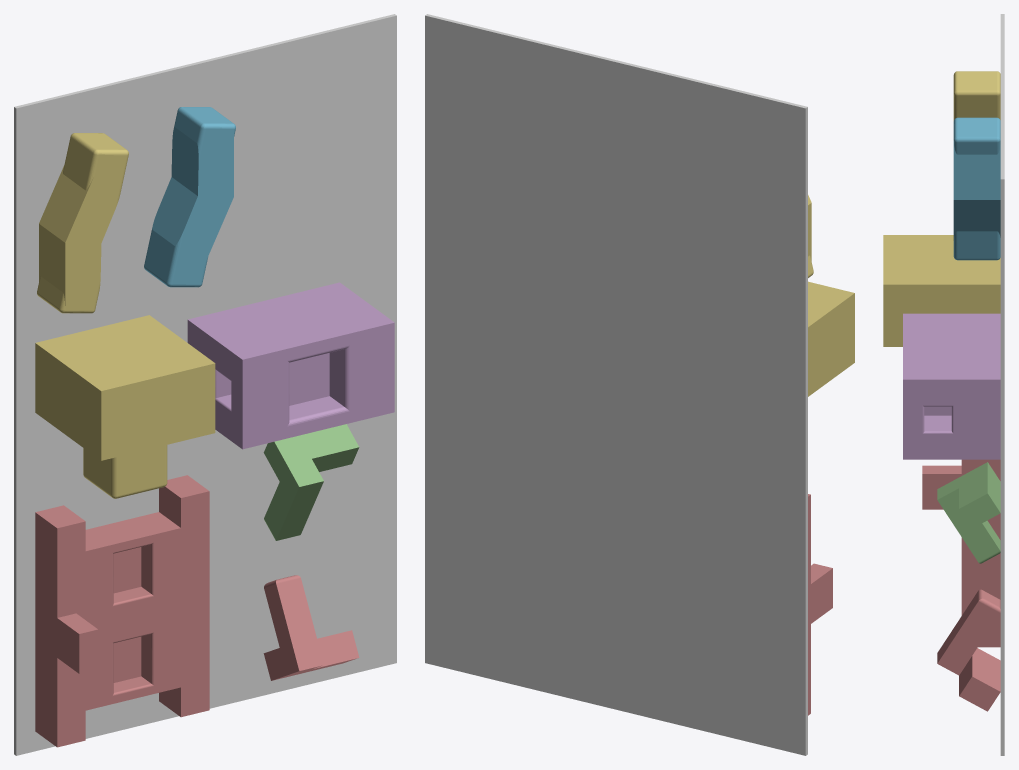
File: pickup_layout.glb
The picture shows the model from 3 angles, left to right: view 1: azimuth 30°, elevation 25°; view 2: azimuth 150°, elevation 25°; view 3: azimuth 270°, elevation 25°; orthographic projection. The views are drawn at different scales.
Visible parts, largest first — view 1: world, 0.obj, 3.obj, 6.obj, 1.obj, 2.obj, 4.obj, 5.obj; view 2: world, 6.obj, 0.obj; view 3: 3.obj, 6.obj, 2.obj, 5.obj, 4.obj, 0.obj, world, 1.obj.
Part boxes in pixels (box(x1,y1,x2,y2)): world: box(14, 14, 396, 755); 0.obj: box(35, 475, 209, 747); 3.obj: box(187, 282, 394, 449); 6.obj: box(35, 315, 215, 498); 1.obj: box(37, 133, 128, 313); 2.obj: box(144, 107, 235, 287); 4.obj: box(263, 424, 359, 540); 5.obj: box(263, 575, 359, 680); world: box(425, 14, 807, 755); 6.obj: box(808, 281, 854, 396); 0.obj: box(808, 494, 832, 715); 3.obj: box(903, 313, 1000, 459); 6.obj: box(883, 235, 1000, 346); 2.obj: box(953, 117, 1000, 260); 5.obj: box(937, 589, 1000, 711); 4.obj: box(937, 462, 1000, 563); 0.obj: box(922, 459, 1000, 647); world: box(1000, 14, 1004, 755); 1.obj: box(953, 71, 1000, 120).
Size of the model in its own units: 20 by 32.5 by 6.2.
